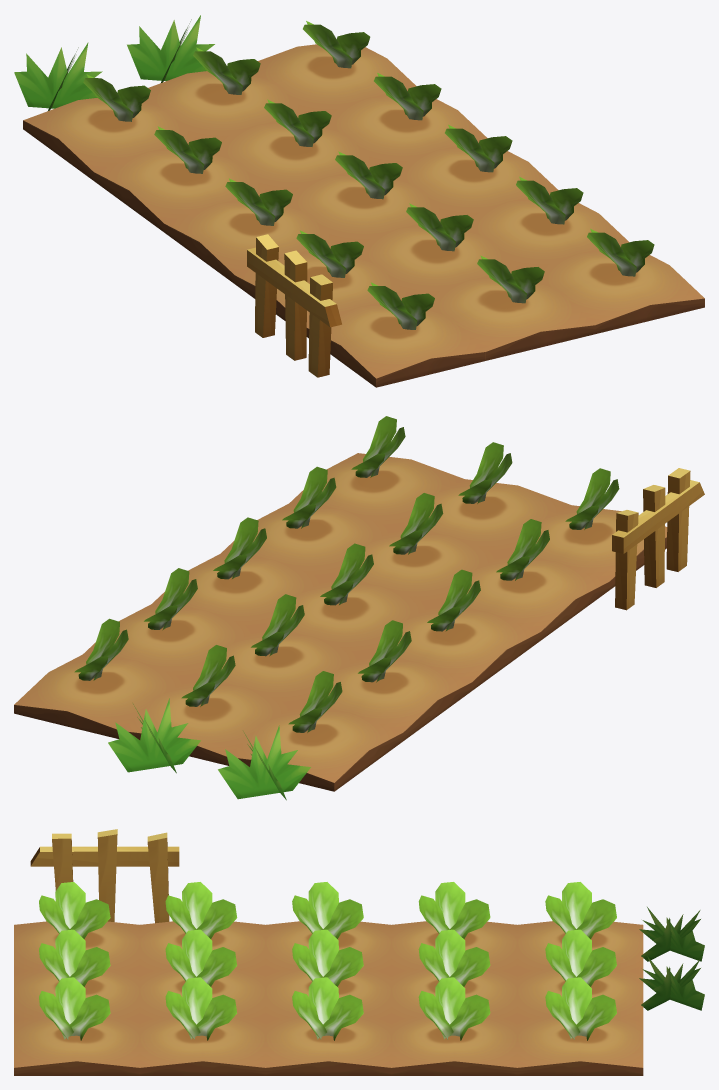
File: nongtian.FBX
The picture shows the model from 3 angles, top to bottom: view 1: azimuth 30°, elevation 25°; view 2: azimuth 150°, elevation 25°; view 3: azimuth 270°, elevation 25°; orthographic projection. The views are drawn at different scales.
Visible parts, largest first — view 1: nongtian; view 2: nongtian; view 3: nongtian.
Boxes of the visible parts, x1=… form: nongtian: x1=14, y1=15, x2=704, y2=387; nongtian: x1=14, y1=416, x2=704, y2=800; nongtian: x1=14, y1=829, x2=704, y2=1075.
Size of the model in its own units: 521 by 136 by 957.
Materials: 1 (1 with a texture image).
